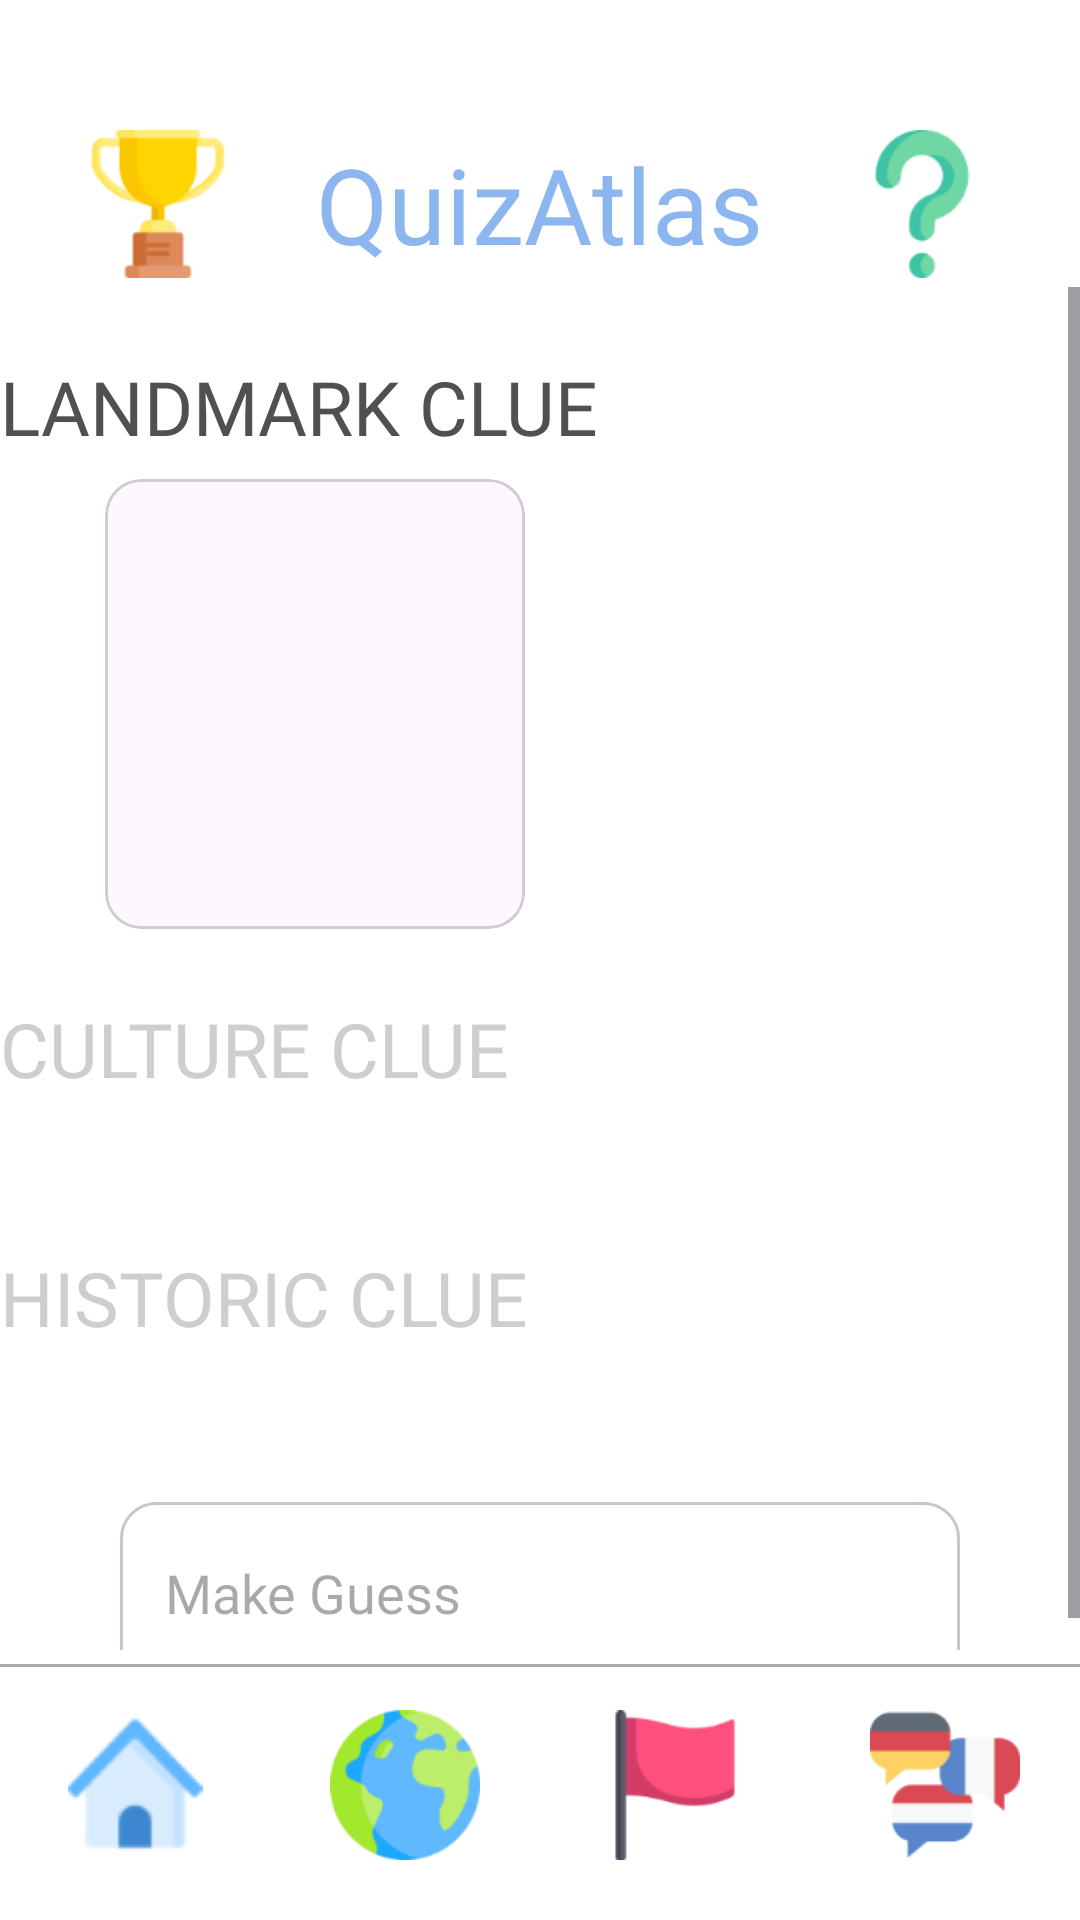

Icon click points for this 1080px x 1920px phone screenshot, format [x,y]:
earth: [405,1785]
flag: [675,1785]
home: [135,1783]
language: [945,1784]
questionmark: [922,204]
trophy: [158,204]
